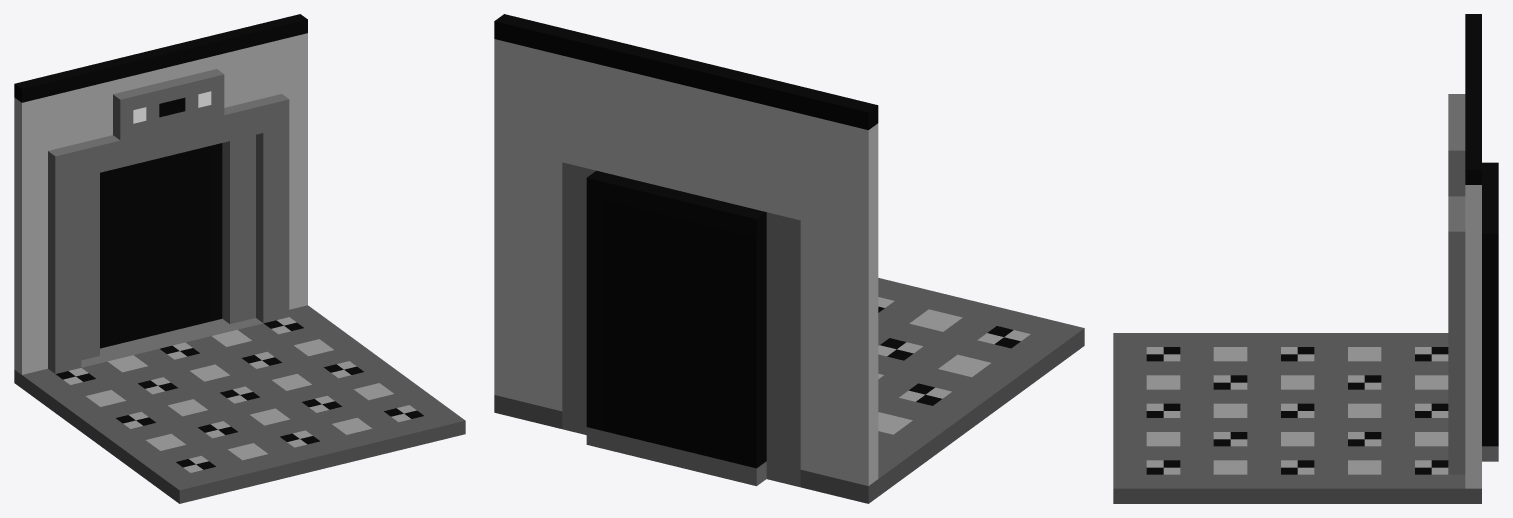
File: level_one-12.obj
3 views of the same model, side by side, from view 1: azimuth 30°, elevation 25°; view 2: azimuth 150°, elevation 25°; view 3: azimuth 270°, elevation 25° (orthographic). The views are drawn at different scales.
Visible parts, largest first — view 1: level_one-12; view 2: level_one-12; view 3: level_one-12.
Boxes of the visible parts, x1,y1,x2,y2 form: level_one-12: [14, 14, 465, 503]; level_one-12: [494, 14, 1084, 503]; level_one-12: [1113, 14, 1498, 503].
Size of the model in its own units: 22 by 22 by 23.
Materials: 1 (1 with a texture image).
